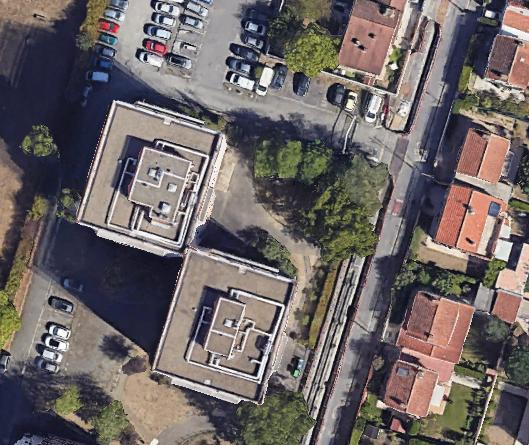immeuble: (73, 94, 234, 265), (147, 242, 303, 412)
maison: (429, 180, 511, 261), (396, 289, 473, 363), (380, 346, 454, 422), (336, 0, 403, 77), (453, 127, 512, 186), (486, 3, 527, 87)
